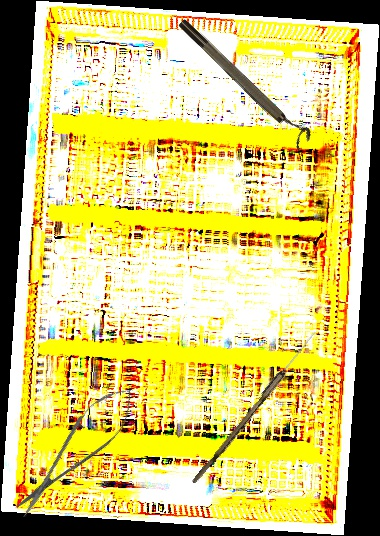Fixation Ring: (175, 11, 316, 151)
Micro Scissor: (4, 374, 147, 528)
Surgical Spoon: (191, 328, 319, 487)
